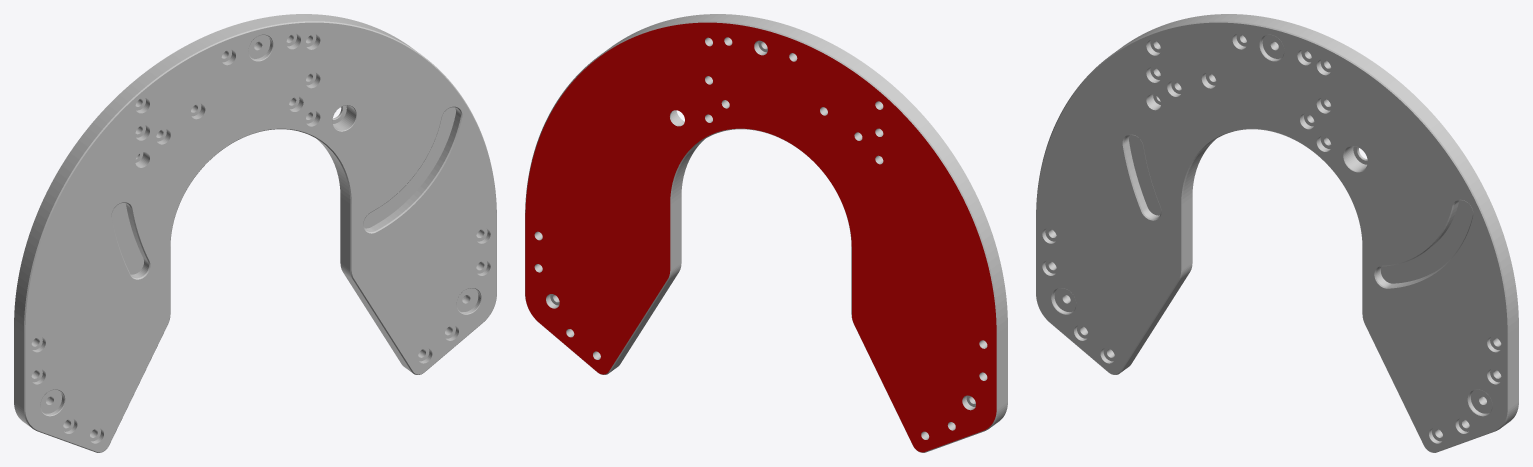
The model's file is 15_edit_stp_18.obj.
3 views of the same model, side by side, from view 1: azimuth 30°, elevation 25°; view 2: azimuth 150°, elevation 25°; view 3: azimuth 330°, elevation 25° (orthographic).
Parts seen in each view (by area): view 1: Object1; view 2: Object1; view 3: Object1.
Part boxes in pixels (<box>): Object1: <box>14,14,496,452</box>; Object1: <box>525,14,1007,452</box>; Object1: <box>1036,14,1518,452</box>.
Bounding box in the file's own units: 1000 × 780 × 40.
